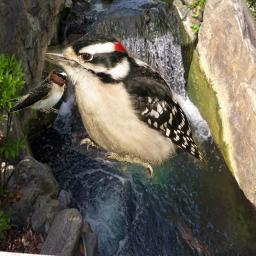Swallow: (7, 68, 70, 115)
Woodpecker: (38, 34, 208, 184)
